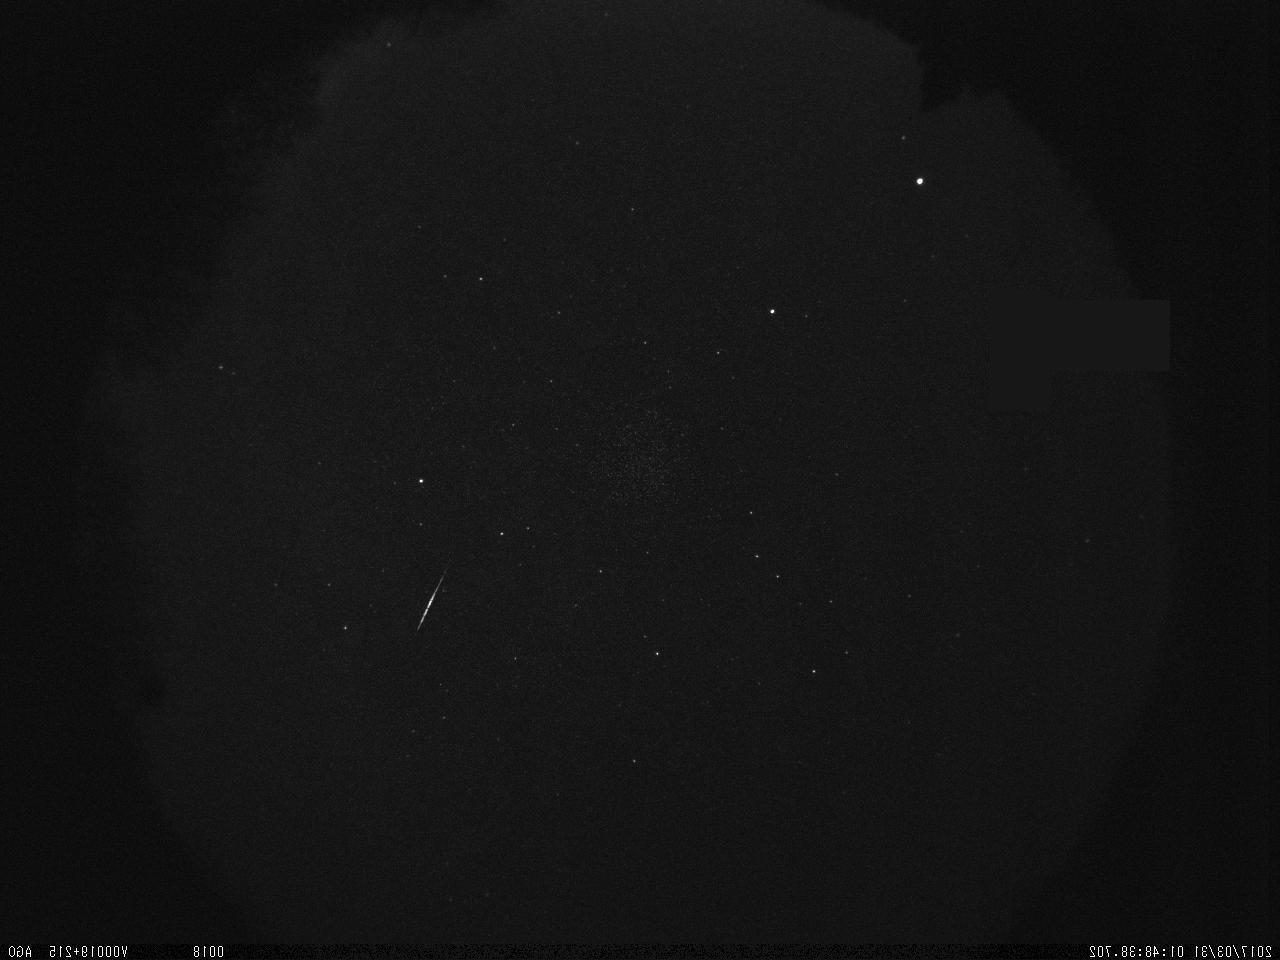meteor: (406, 561, 445, 648)
